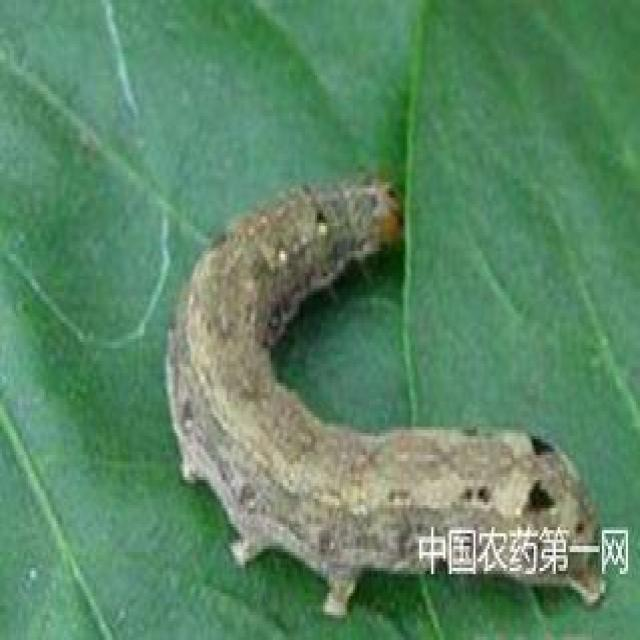BeetArmyWorm-Larva-: (125, 163, 617, 622)
